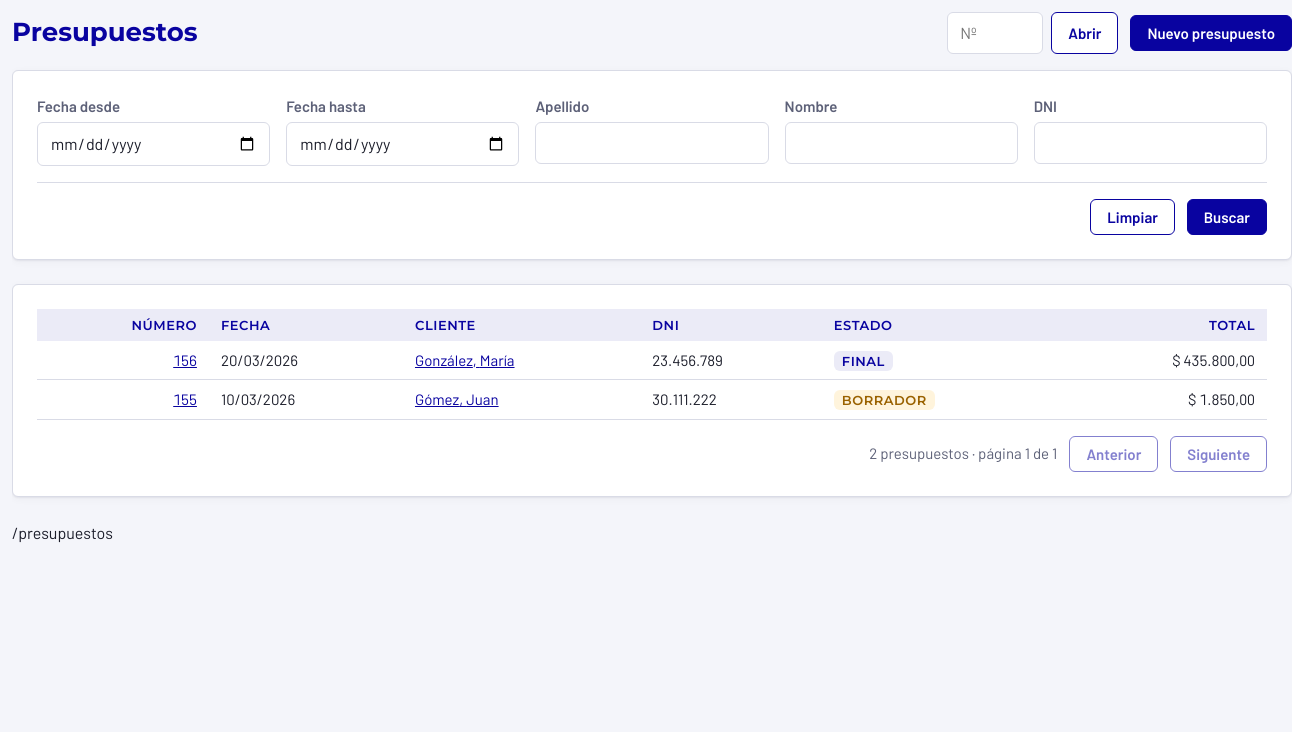
Test case: búsqueda de presupuestos › avisa si Hasta es anterior a Desde sin consultar a la API
The image size is (1292, 732).
Expected: the link "González, María" is shown, [415, 350, 515, 368]
Type "2026-03-20" into the date field labelled "Fecha desde" at [154, 144], box [37, 122, 270, 166]
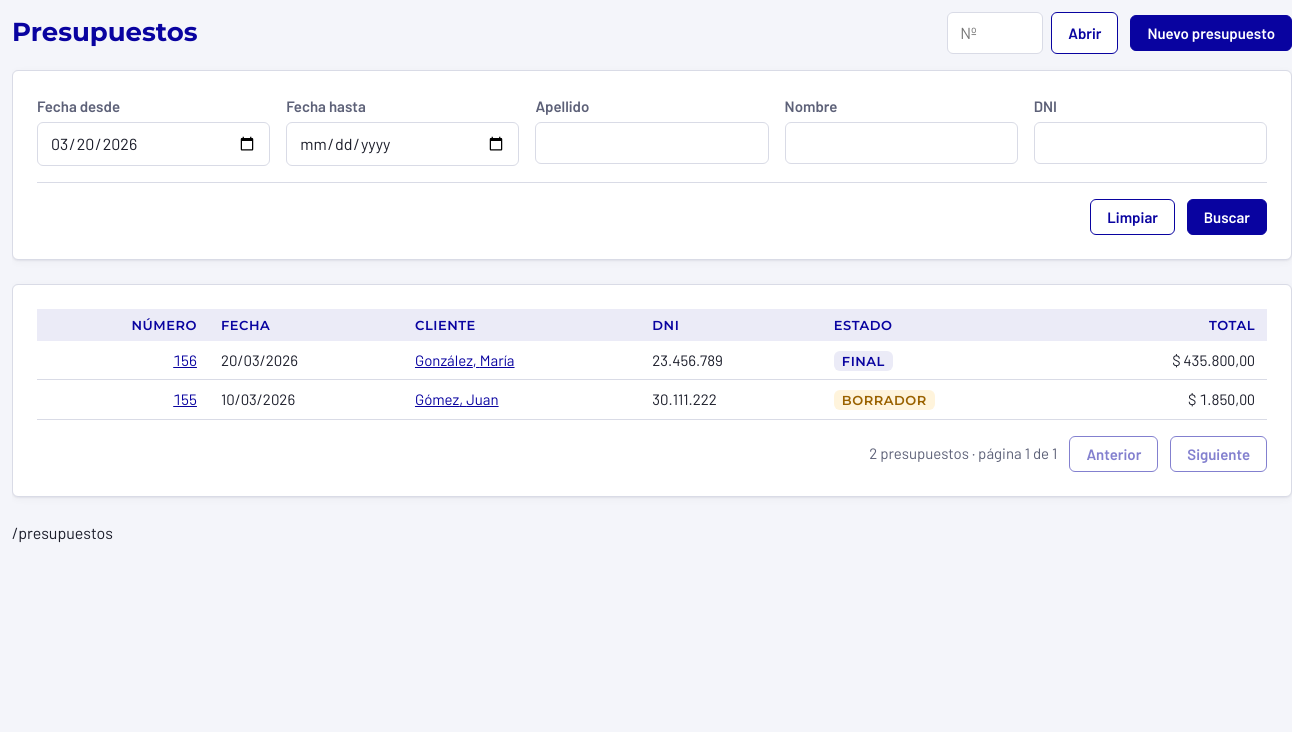
Type "2026-03-10" into the date field labelled "Fecha hasta" at [403, 144], box [286, 122, 519, 166]
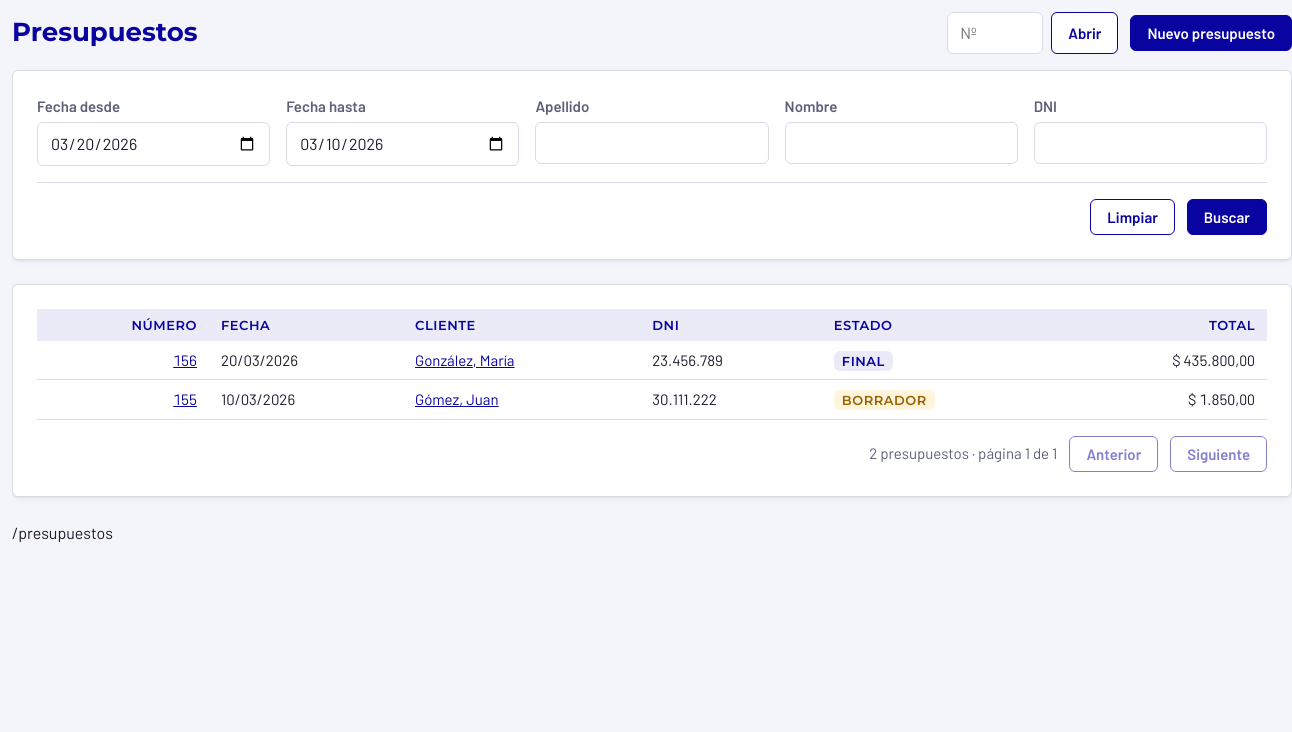
Click the button "Buscar" at [1227, 216], box [1187, 198, 1267, 234]
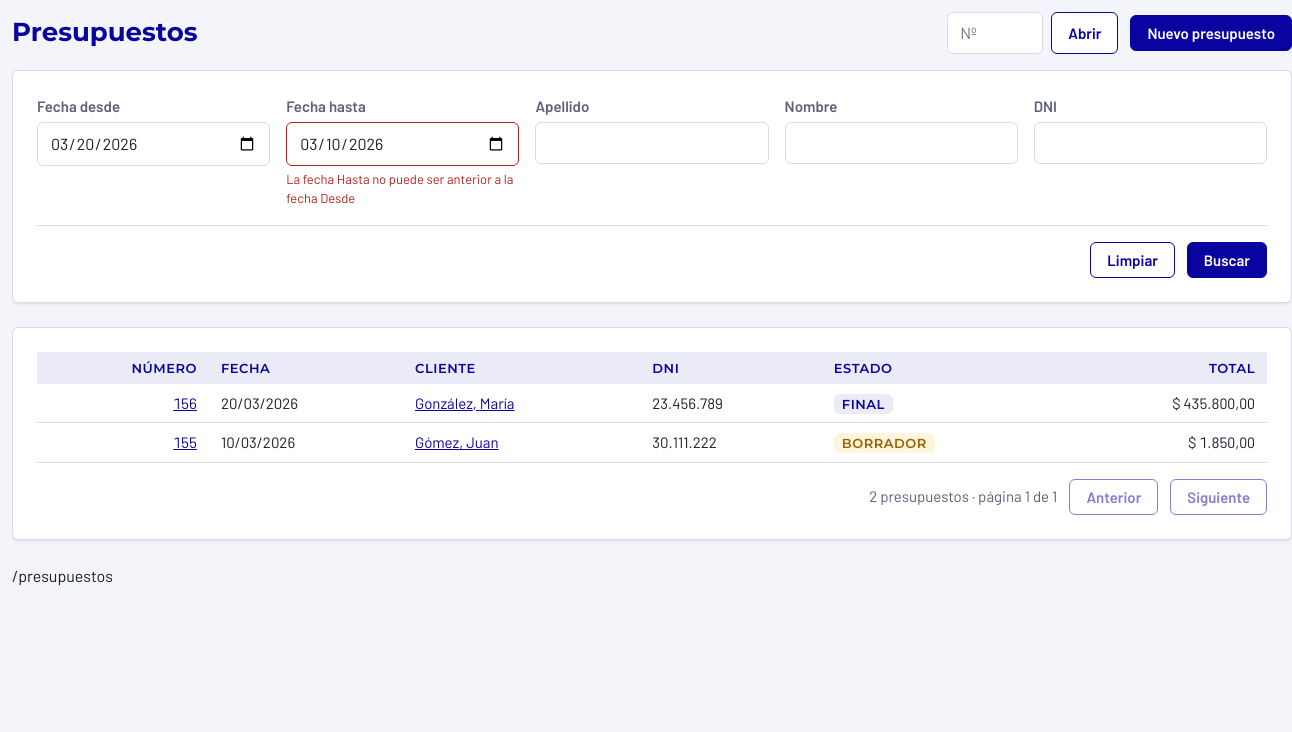
Expected: the text "La fecha Hasta no puede ser anterior a la fecha Desde" is shown, [286, 170, 519, 208]
